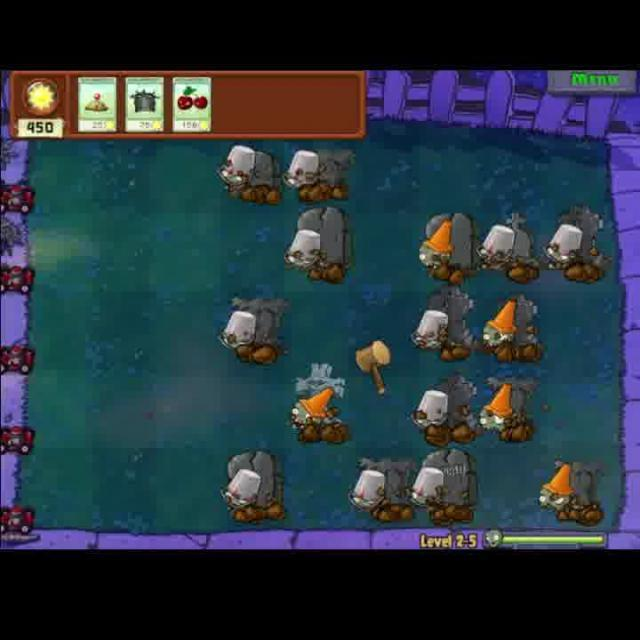zombies: (215, 464, 270, 531), (413, 218, 463, 290), (544, 210, 593, 282), (409, 452, 458, 520), (479, 216, 527, 281), (348, 455, 394, 522), (478, 294, 524, 359), (213, 137, 258, 199), (286, 385, 334, 443), (216, 306, 262, 366), (533, 457, 579, 517), (282, 141, 326, 202), (287, 222, 328, 286), (480, 376, 519, 441), (410, 378, 452, 438), (409, 302, 452, 360)
